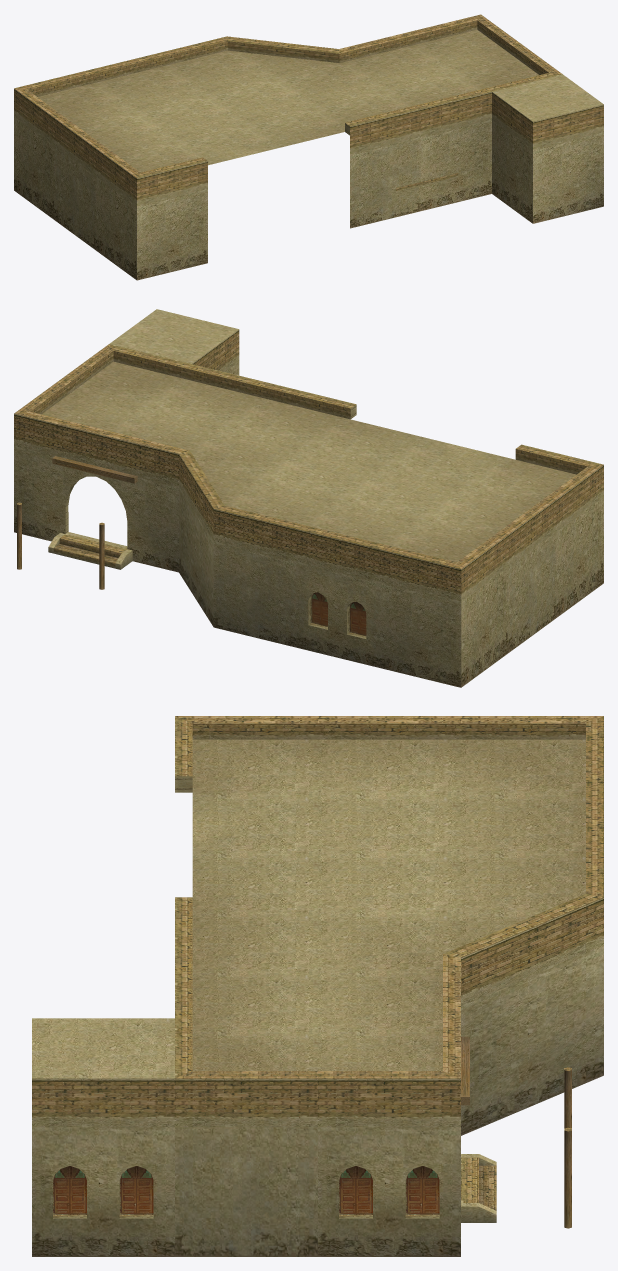
The model's file is M7Z2_StuccoBuildingA.glb.
3 renders of one model, top to bottom at view 1: azimuth 30°, elevation 25°; view 2: azimuth 150°, elevation 25°; view 3: azimuth 270°, elevation 25°, orthographic. The views are drawn at different scales.
Visible parts, largest first — view 1: M7Z2_STUCCOBUILDINGA; view 2: M7Z2_STUCCOBUILDINGA; view 3: M7Z2_STUCCOBUILDINGA.
Boxes of the visible parts, x1,y1,x2,y2 form: M7Z2_STUCCOBUILDINGA: (14,14,603,280); M7Z2_STUCCOBUILDINGA: (14,309,603,687); M7Z2_STUCCOBUILDINGA: (32,716,603,1256).
Bounding box in the file's own units: 24 × 5.5 × 16.5.
7 materials, 7 textured.
